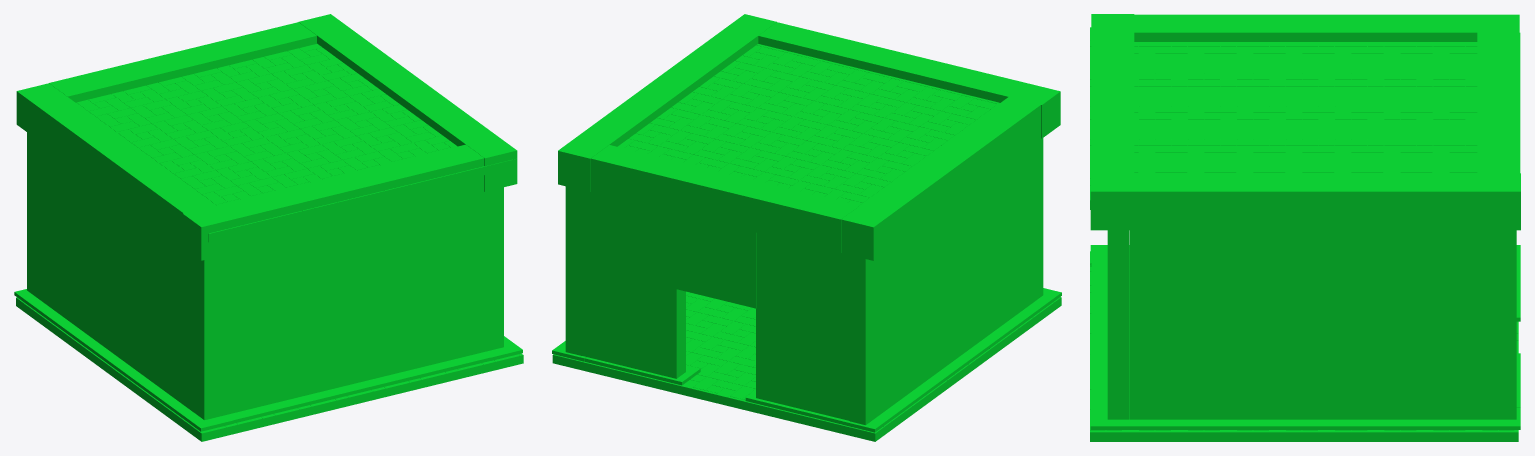
The model's file is fabricacasas2 2.fbx.
The picture shows the model from 3 angles, left to right: view 1: azimuth 30°, elevation 25°; view 2: azimuth 150°, elevation 25°; view 3: azimuth 270°, elevation 25°; orthographic projection. The views are drawn at different scales.
Parts seen in each view (by area): view 1: Floor.003; view 2: Floor.003; view 3: Floor.003.
Part boxes in pixels (bbox=[...]): Floor.003: bbox=[14, 14, 523, 441]; Floor.003: bbox=[552, 14, 1061, 441]; Floor.003: bbox=[1090, 14, 1520, 441].
Bounding box in the file's own units: 2 × 2 × 1.27.
